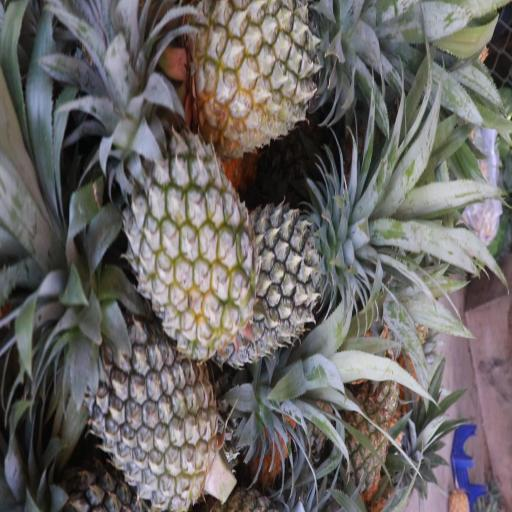------------------------------: (120, 125, 255, 348), (194, 0, 365, 150)
